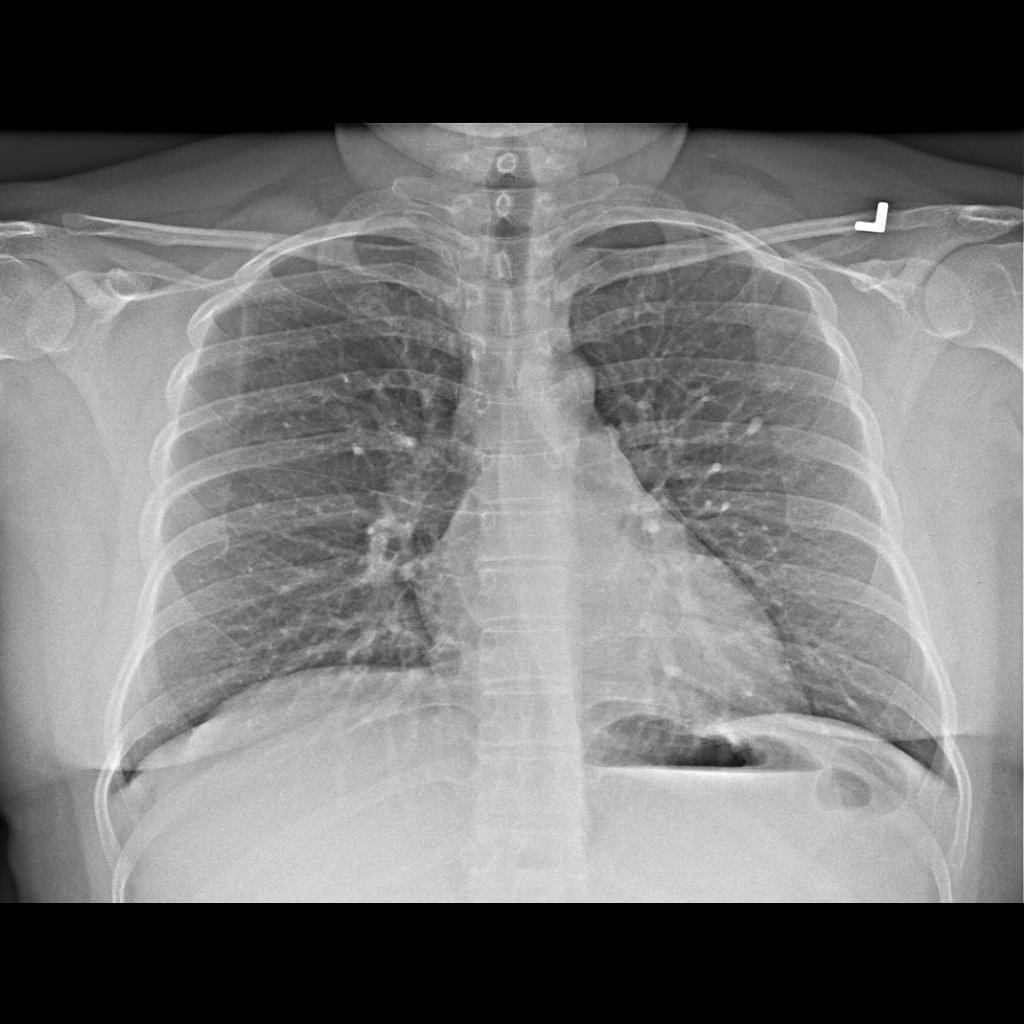Nodule: (743, 407, 767, 445), (660, 658, 683, 684)
